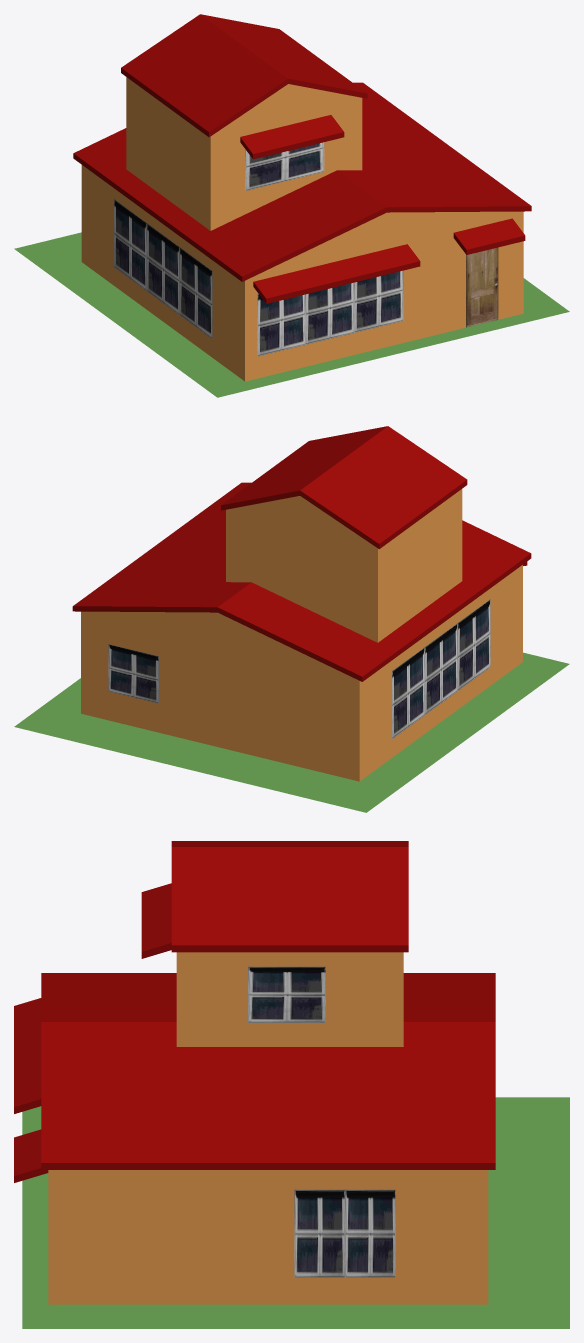
Rendered from House.006.gltf.
The picture shows the model from 3 angles, top to bottom: view 1: azimuth 30°, elevation 25°; view 2: azimuth 150°, elevation 25°; view 3: azimuth 270°, elevation 25°; orthographic projection. The views are drawn at different scales.
Parts seen in each view (by area): view 1: building_018, Plane.009; view 2: building_018, Plane.009; view 3: building_018, Plane.009.
Boxes of the visible parts, box(x1,y1,x2,y2) form: building_018: box(73, 14, 531, 381); Plane.009: box(14, 232, 569, 397); building_018: box(72, 426, 531, 781); Plane.009: box(14, 652, 569, 812); building_018: box(14, 841, 495, 1304); Plane.009: box(22, 1097, 569, 1328).
Bounding box in the file's own units: 7 × 4.7 × 7.11.
5 materials, 2 textured.
